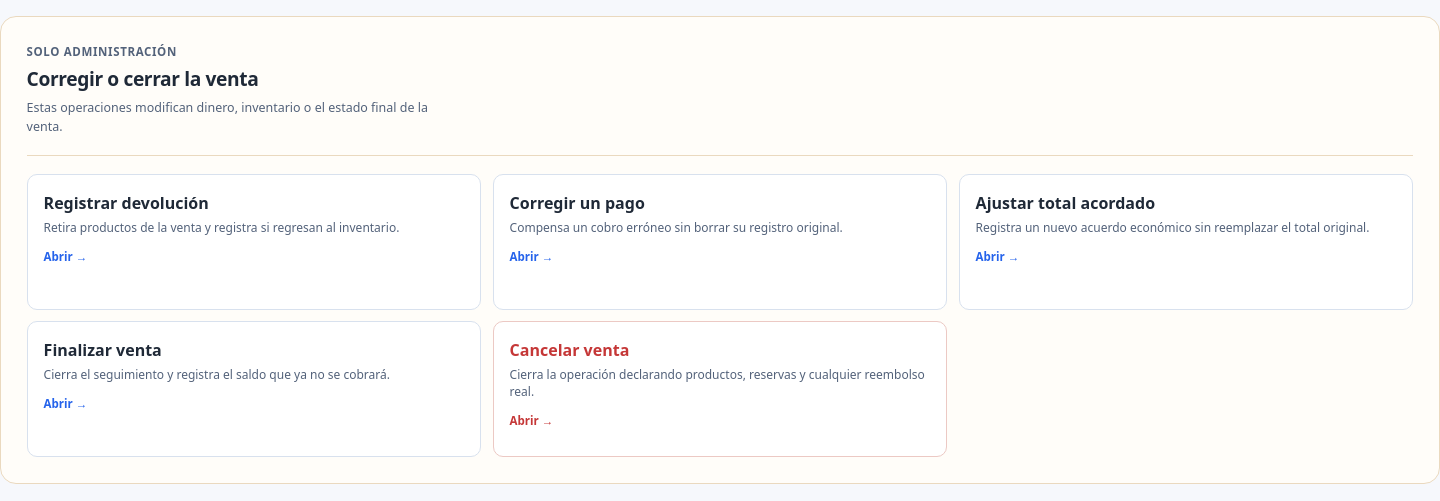
sale administration › corrects part of a payment and retains its original method
Click the button "Corregir un pago" at (577, 203), box [493,174,947,310]
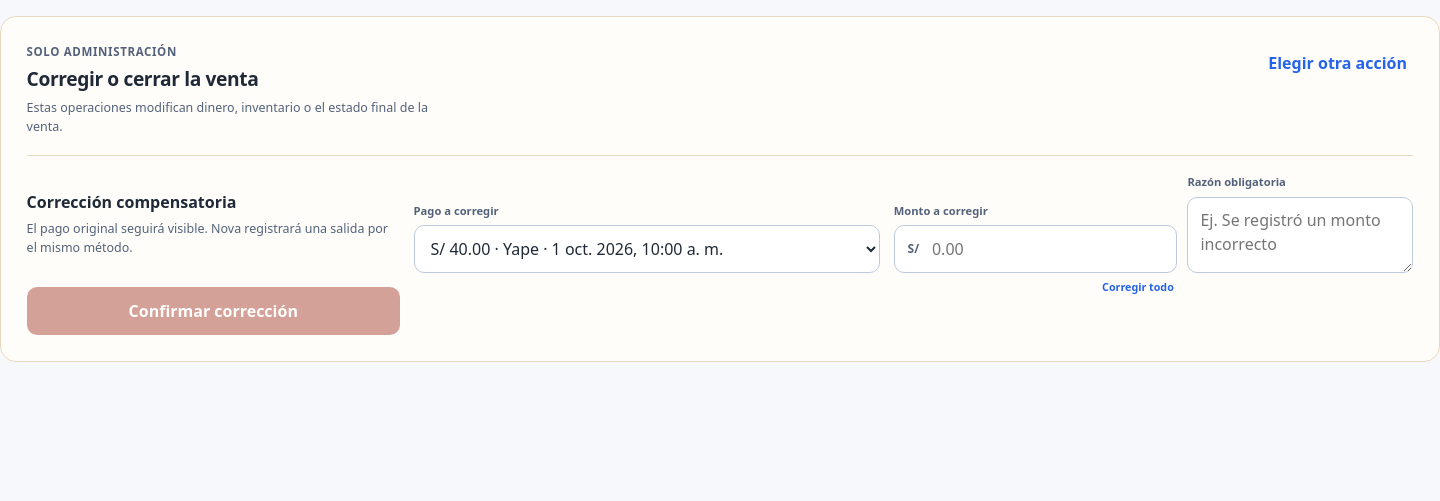
Type "10" into the field labelled "Monto a corregir" at (1048, 250), box [919,226,1176,272]
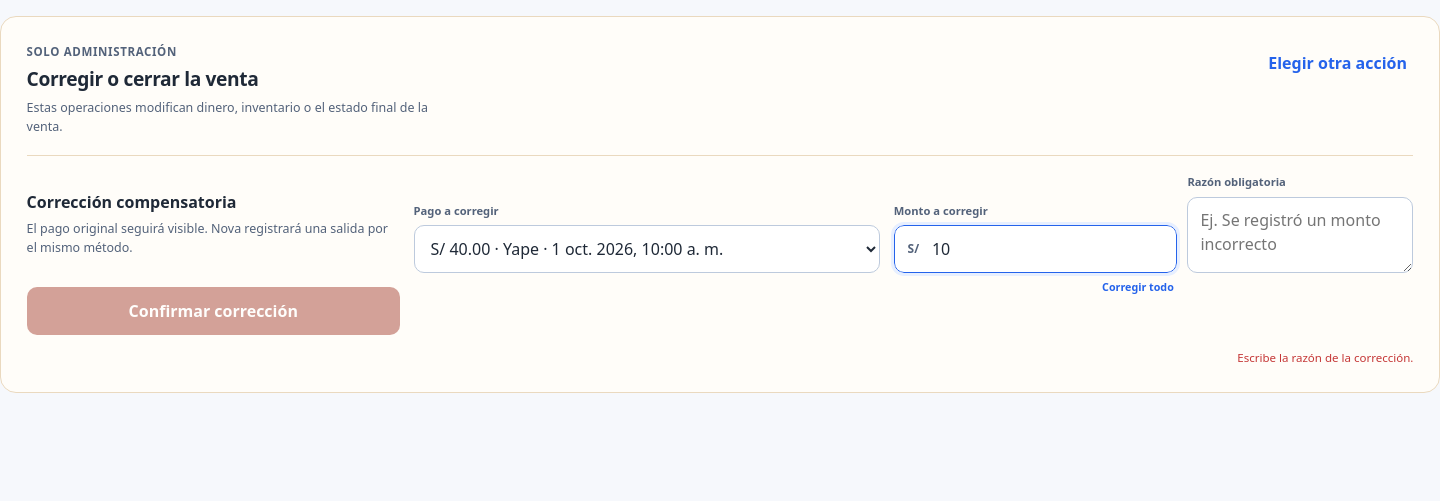
Type "Monto duplicado" into the text box labelled "Razón obligatoria" at (1300, 235), box [1187,197,1413,274]
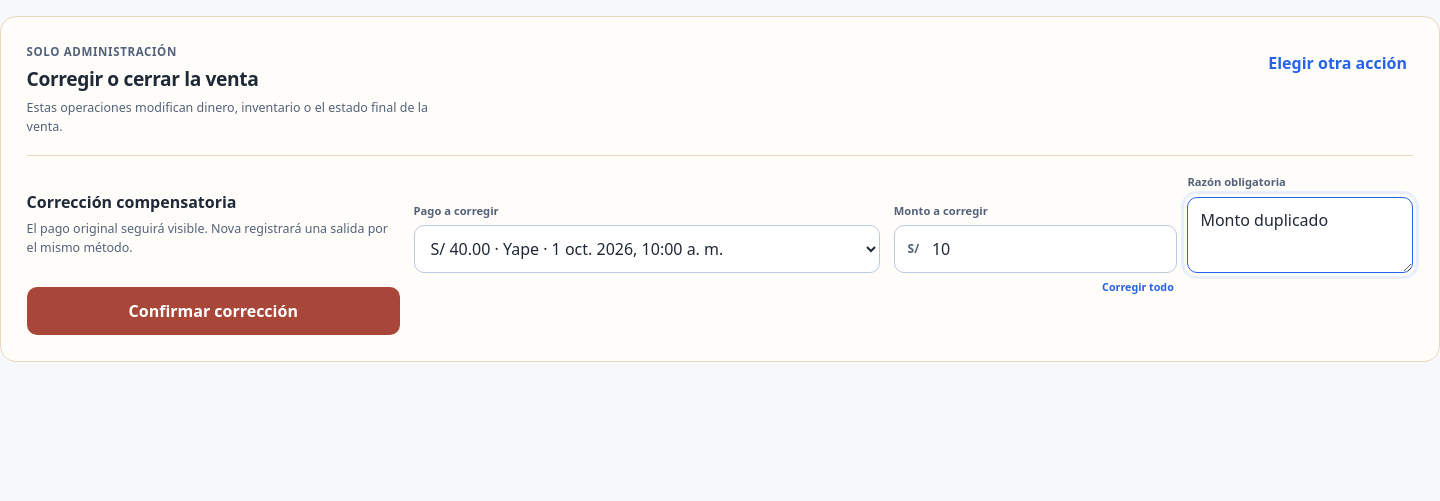
Click the button "Confirmar corrección" at (213, 311), box [27,287,400,335]
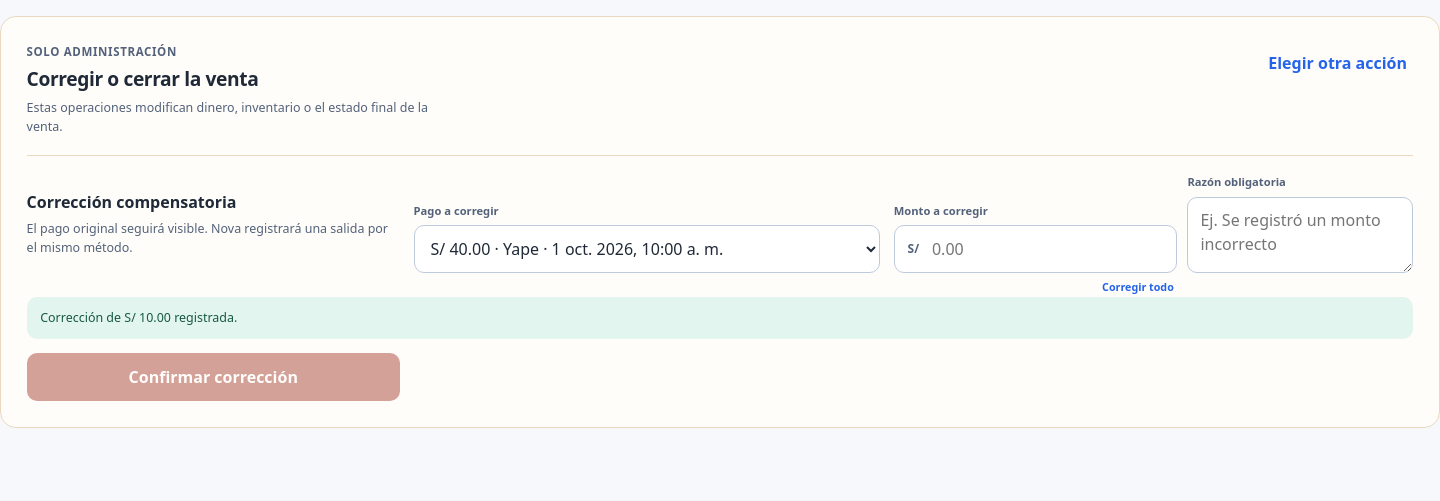
Expected: the text "Corrección de S/ 10.00 registrada." is shown, [27,297,1413,339]
